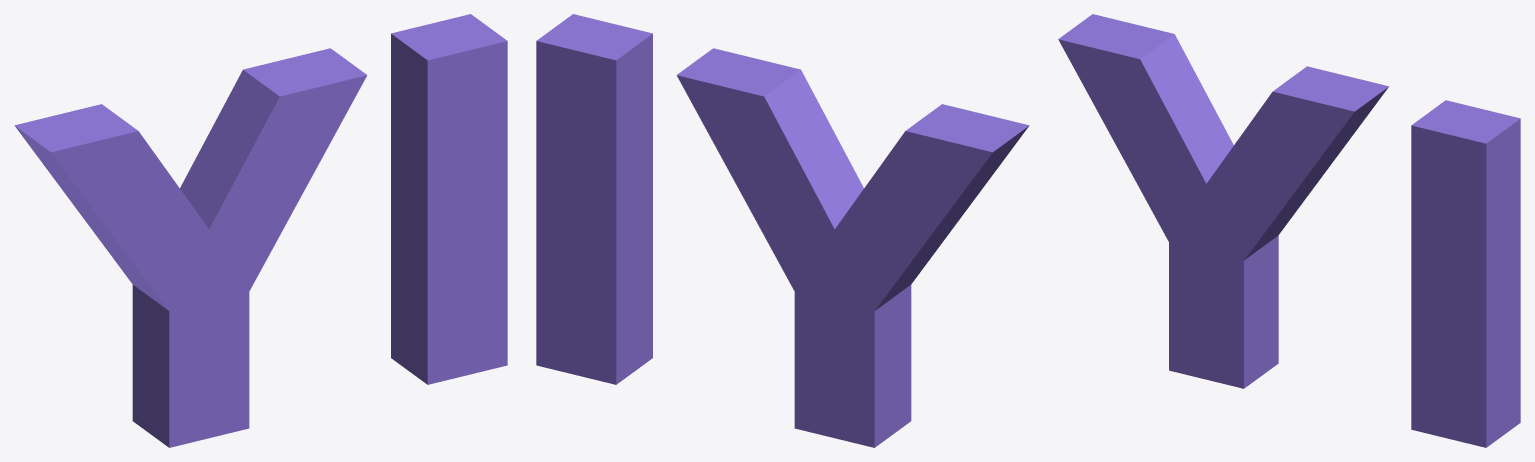
The model's file is suku_besar_yi.glb.
3 renders of one model, left to right at view 1: azimuth 30°, elevation 25°; view 2: azimuth 150°, elevation 25°; view 3: azimuth 330°, elevation 25°, orthographic. The views are drawn at different scales.
Parts seen in each view (by area): view 1: geometry_0; view 2: geometry_0; view 3: geometry_0.
Boxes of the visible parts, x1,y1,x2,y2 form: geometry_0: (14,14,507,447); geometry_0: (536,14,1029,447); geometry_0: (1058,14,1520,447).
Size of the model in its own units: 10.73 by 7.29 by 1.5.
